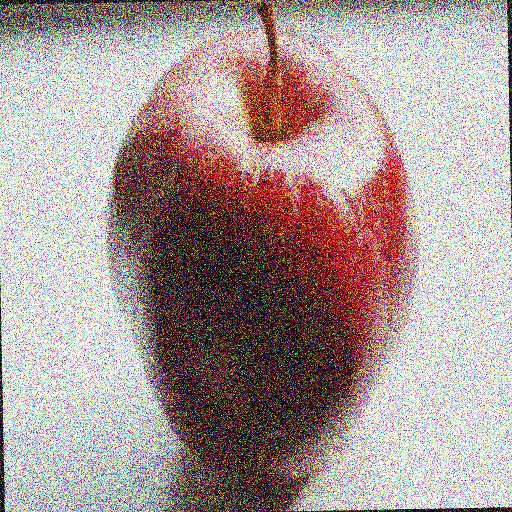fruit: (356, 112, 477, 462), (159, 26, 391, 81), (156, 20, 392, 67), (146, 14, 389, 43), (274, 29, 275, 32), (274, 37, 275, 38)
